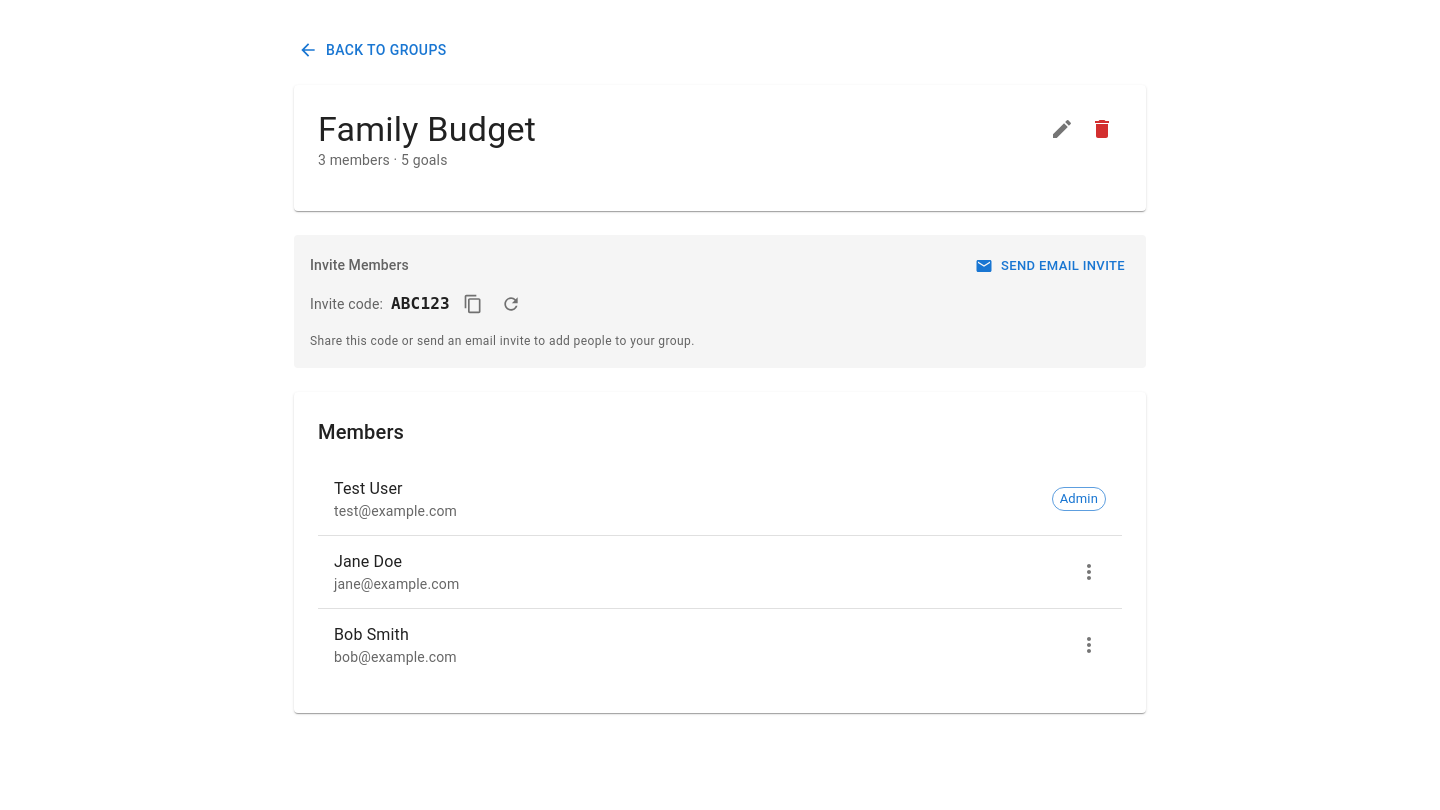
GroupDetail › error handling › shows error when delete fails
The image size is (1440, 810).
expect the heading "Family Budget" is shown: met, box [318,108,536,150]
Click the button named "Delete group" at coordinates (1102, 128), box [1082,108,1122,148]
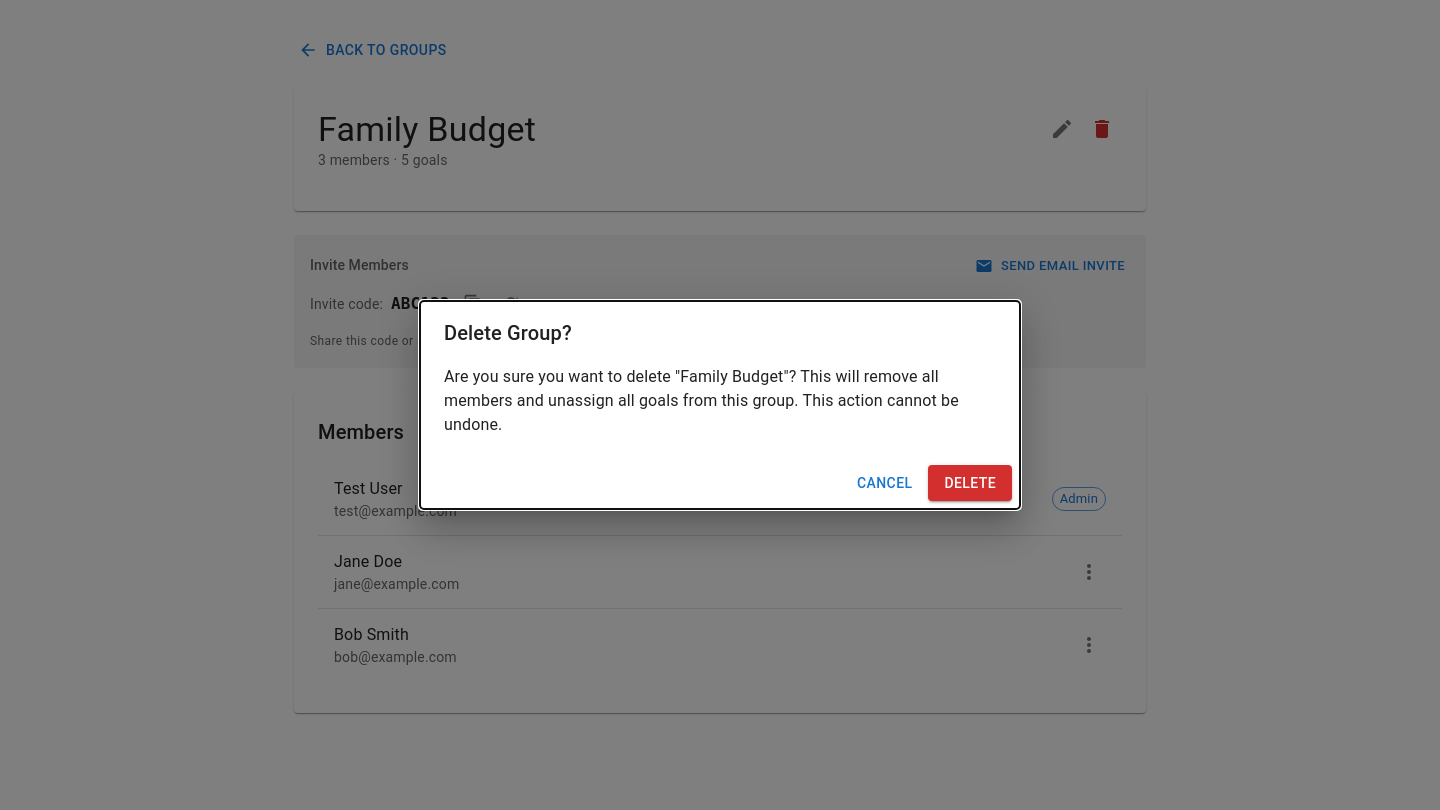
expect the heading "Delete Group?" is shown: met, box [444,321,572,345]
Click the button "Delete" at coordinates (970, 483), box [928,465,1012,501]
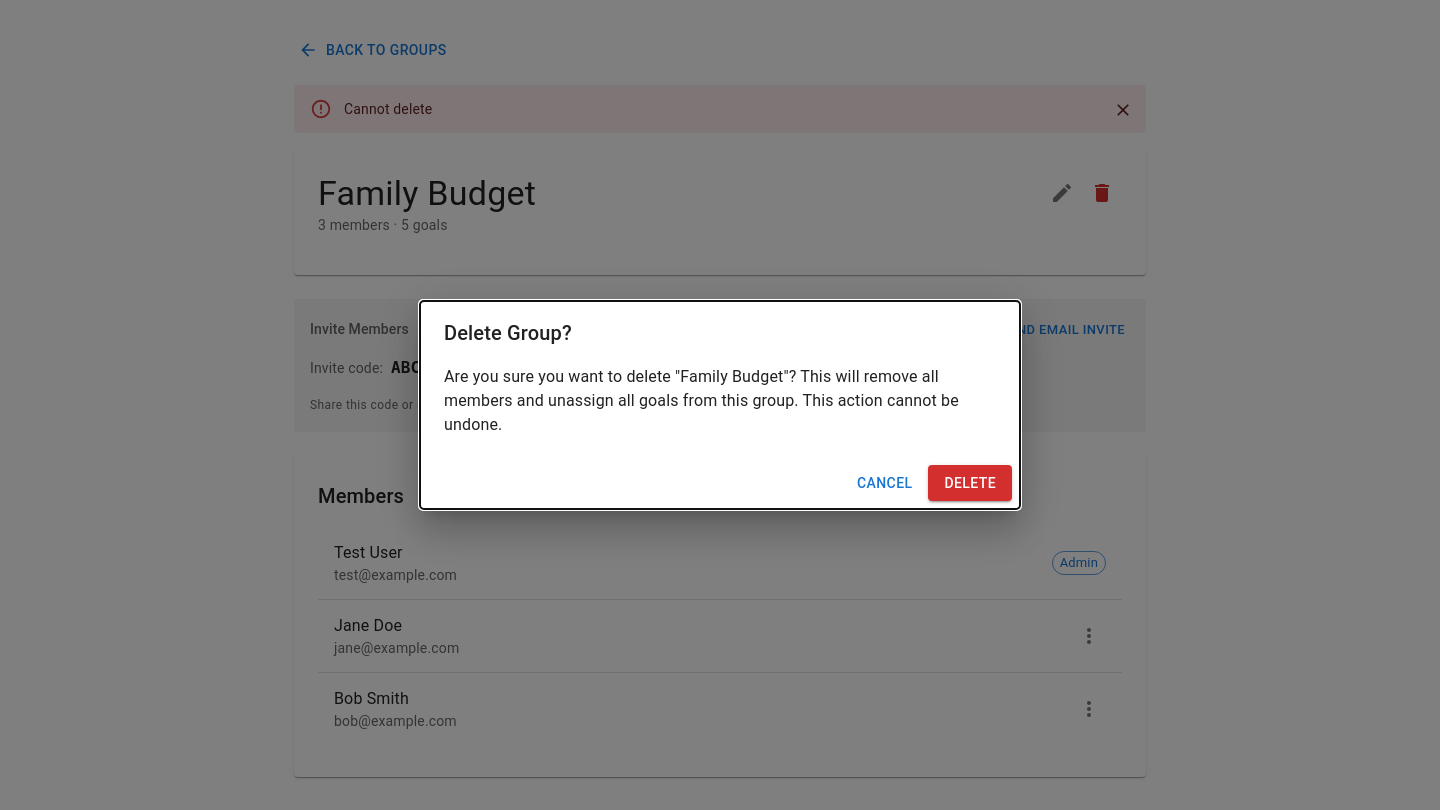
expect the text "Cannot delete" is shown: met, box [344,100,432,116]
